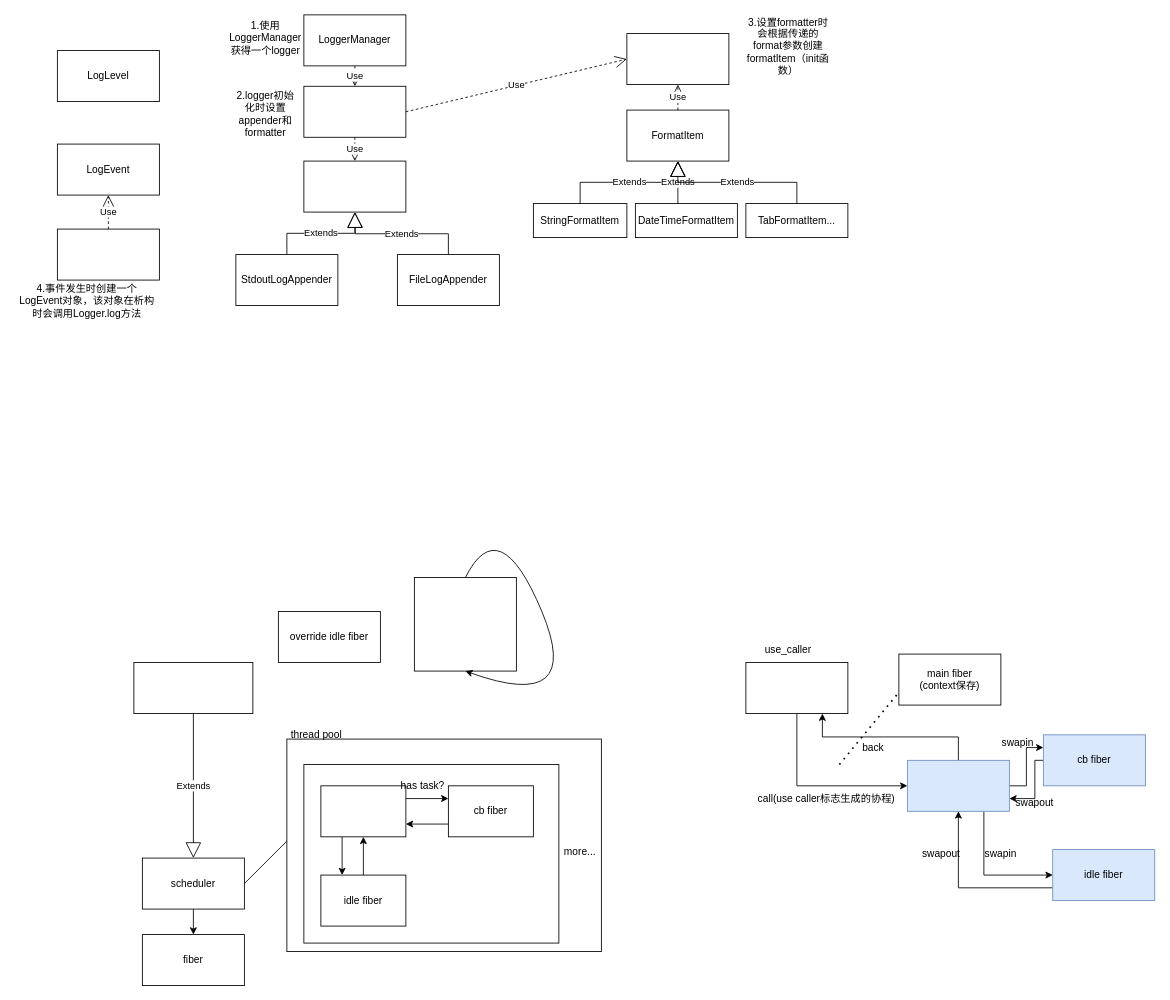
This 1170x1000 diagram has some shape labels left out. Each missing label, with the centre of its shape:
"epoll_wait triggerEvent" belongs at point (465, 624).
"ioManager" belongs at point (193, 688).
"LogAppender" belongs at point (354, 186).
"LogEventWrapper" belongs at point (108, 254).
"LogFormatter" belongs at point (677, 59).
"Logger" belongs at point (354, 111).
"main fiber" belongs at point (363, 811).
"Scheduler::Run" belongs at point (958, 785).
